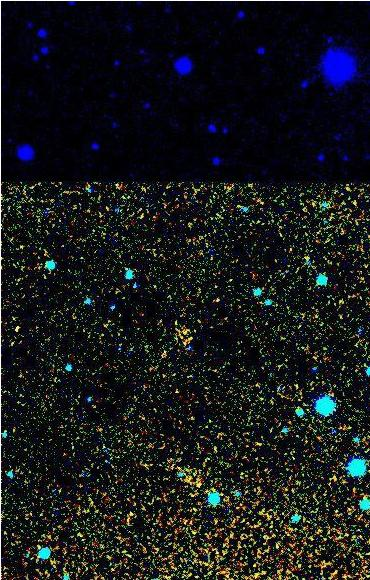star: (183, 471, 213, 501)
